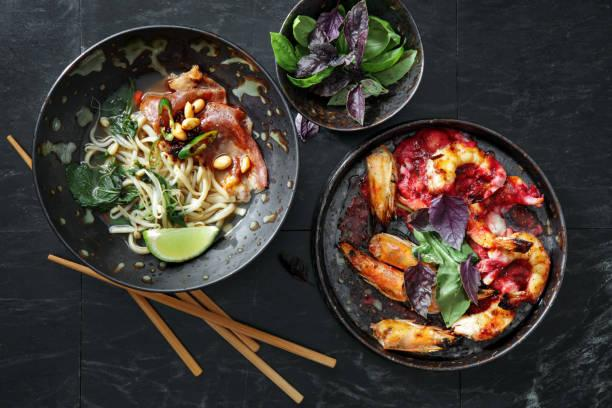Braised Crucian Carp: (33, 25, 294, 289), (312, 119, 561, 370)
